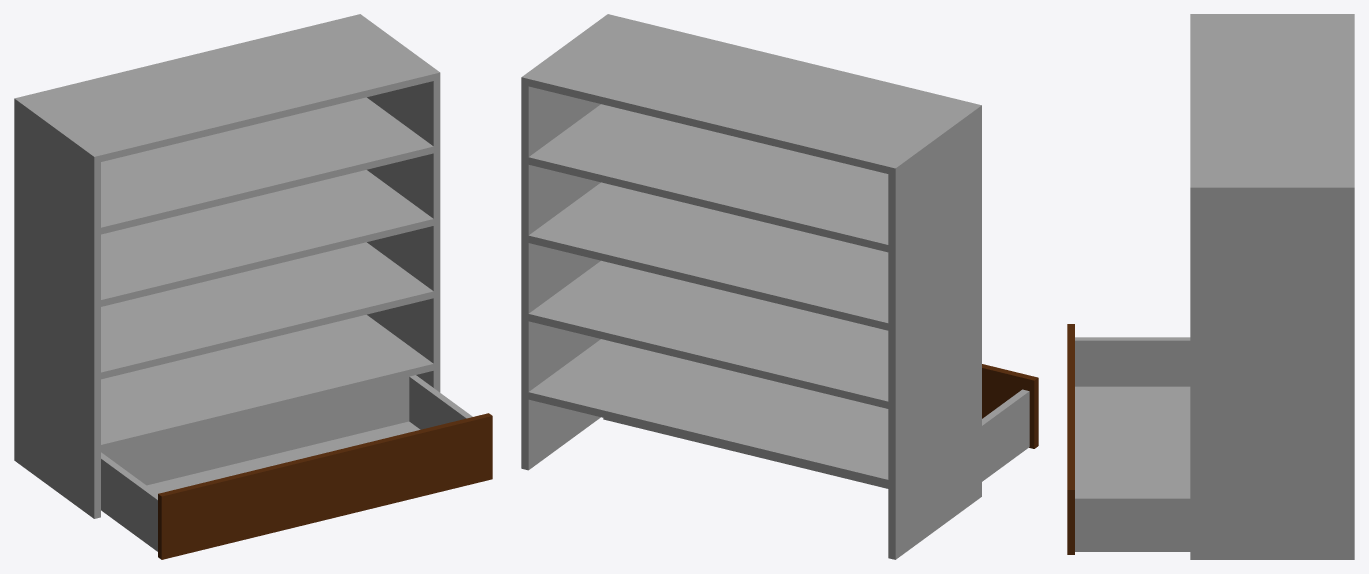
Rendered from meuble_68fb4b17e69ad.glb.
3 views of the same model, side by side, from view 1: azimuth 30°, elevation 25°; view 2: azimuth 150°, elevation 25°; view 3: azimuth 270°, elevation 25° (orthographic). The views are drawn at different scales.
Parts seen in each view (by area): view 1: world; view 2: world; view 3: world.
Boxes of the visible parts, box(x1,y1,x2,y2) form: world: box(14, 14, 492, 559); world: box(521, 14, 1038, 559); world: box(1067, 14, 1354, 559).
Bounding box in the file's own units: 1 × 1 × 0.7.
1 material, 1 textured.
